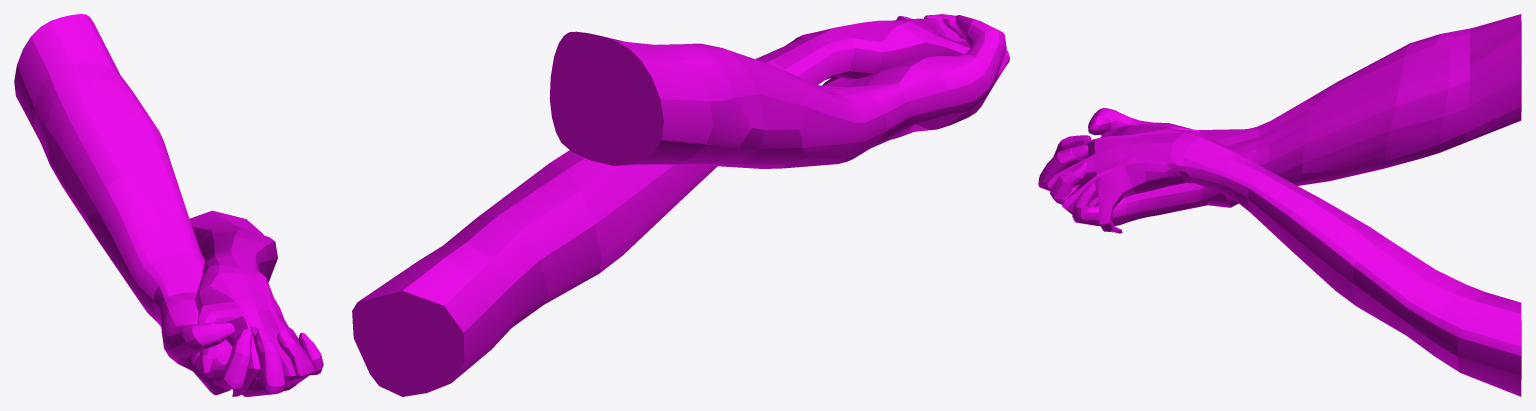
File: holding-hands.fbx
3 views of the same model, side by side, from view 1: azimuth 30°, elevation 25°; view 2: azimuth 150°, elevation 25°; view 3: azimuth 270°, elevation 25° (orthographic). The views are drawn at different scales.
Parts seen in each view (by area): view 1: holding_hands:_Holding_Hands_V1; view 2: holding_hands:_Holding_Hands_V1; view 3: holding_hands:_Holding_Hands_V1.
Part boxes in pixels (left/top/right/bottom): holding_hands:_Holding_Hands_V1: left=14, top=14, right=323, bottom=396; holding_hands:_Holding_Hands_V1: left=352, top=14, right=1009, bottom=396; holding_hands:_Holding_Hands_V1: left=1038, top=14, right=1521, bottom=396.
Size of the model in its own units: 26.25 by 27.52 by 40.01.
